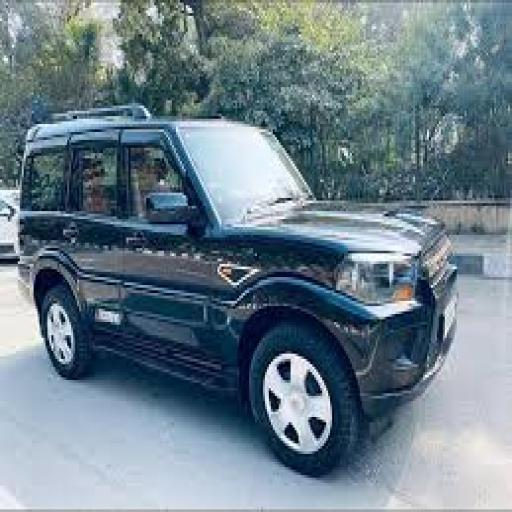car: (15, 85, 484, 469)
